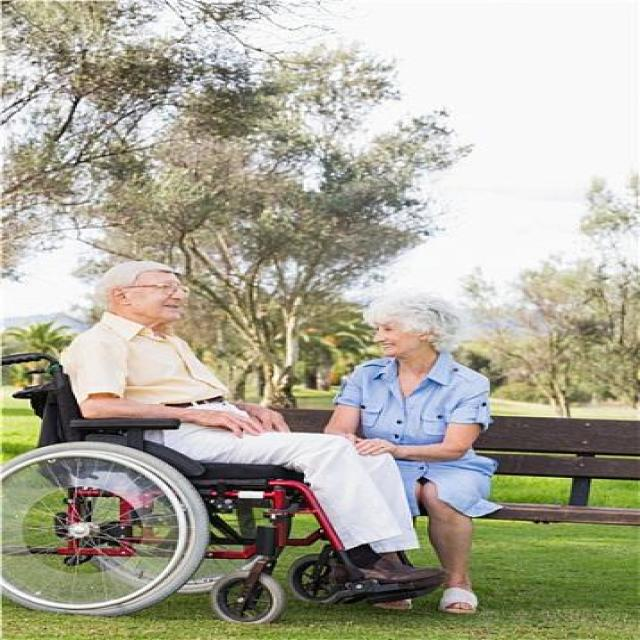wheelchairs: (0, 342, 441, 631)
